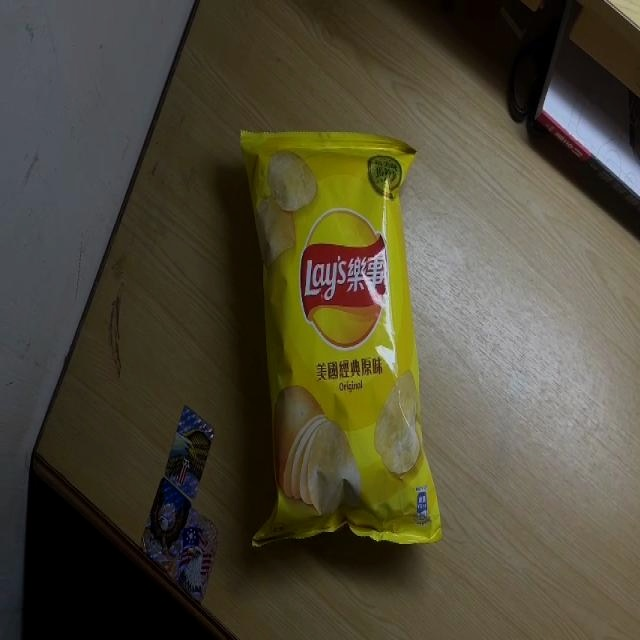Lay-s-original: (240, 130, 443, 552)
